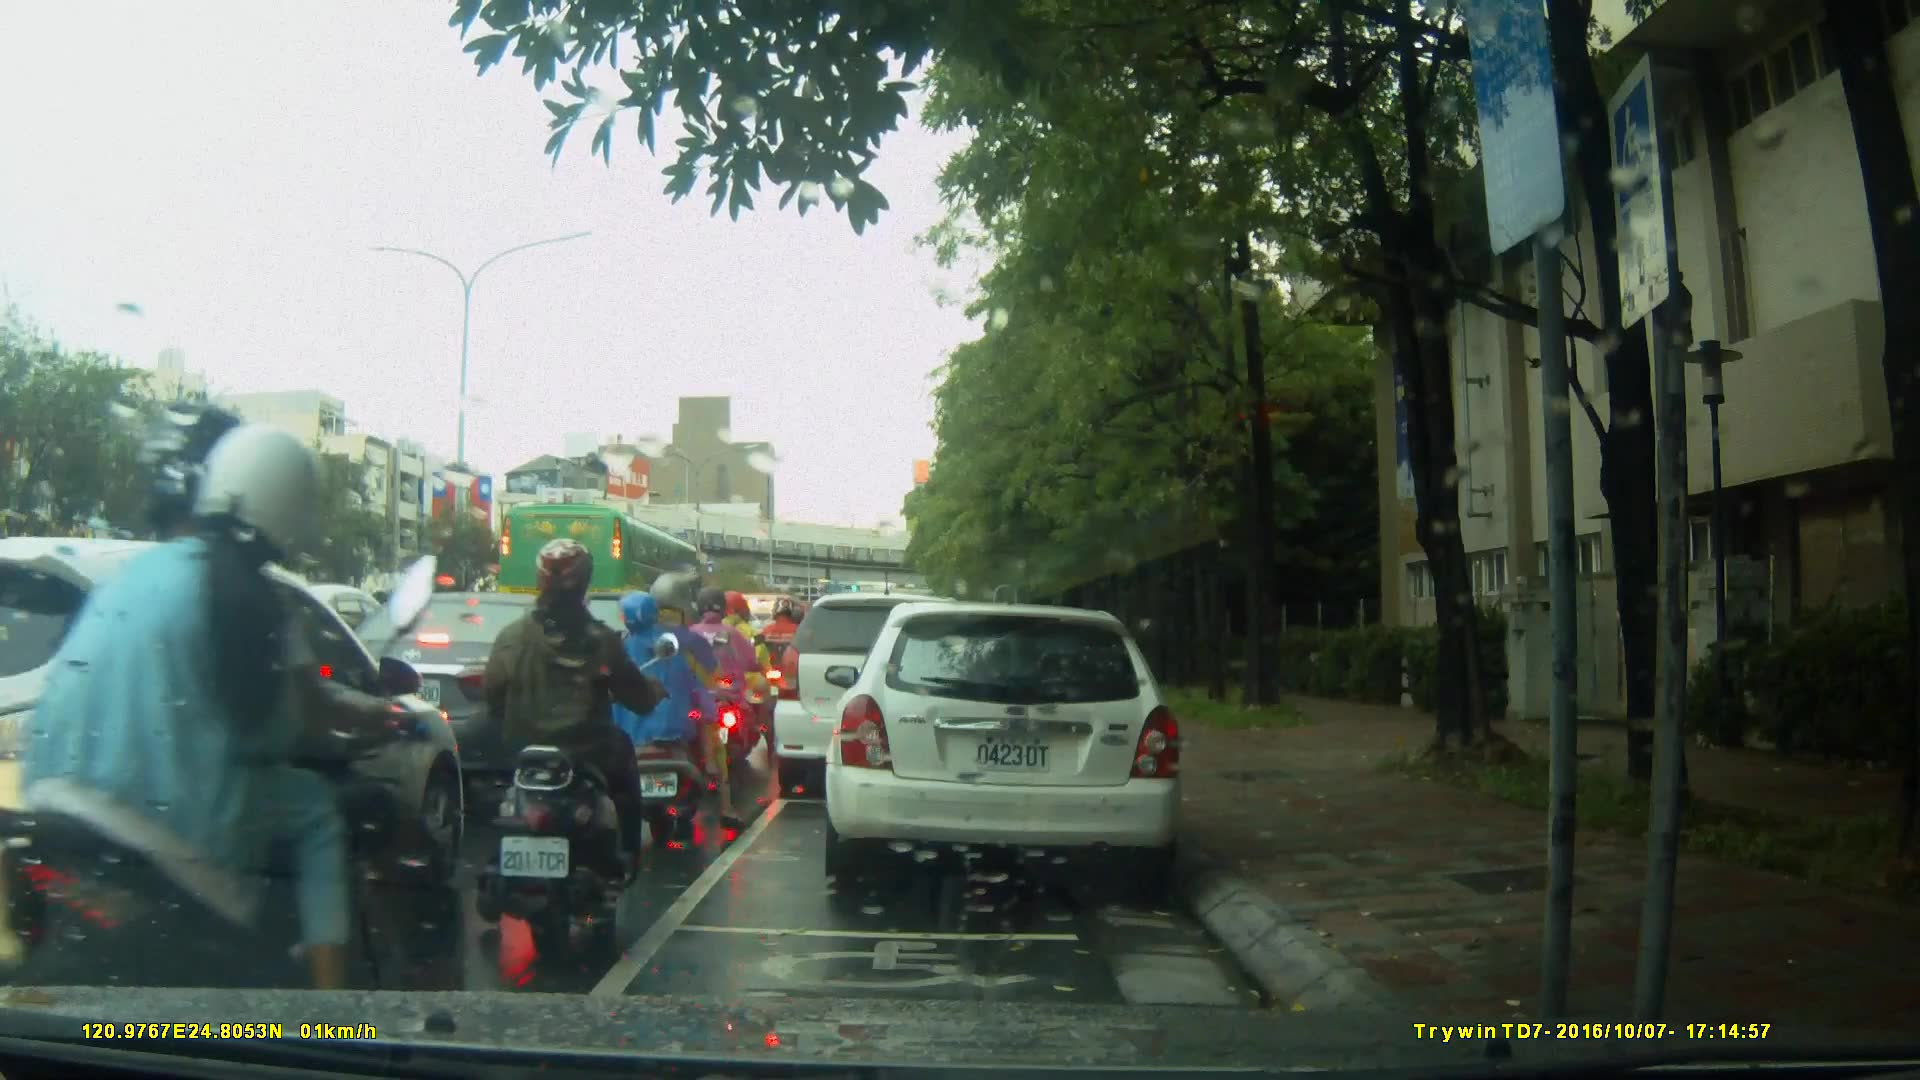rider: (31, 405, 483, 1054), (476, 533, 671, 947), (615, 577, 716, 830), (681, 590, 752, 778), (718, 593, 787, 767), (762, 595, 809, 735)
vehicle: (4, 535, 467, 988), (831, 592, 1196, 897), (312, 589, 629, 776), (771, 590, 999, 804), (501, 503, 709, 636)
